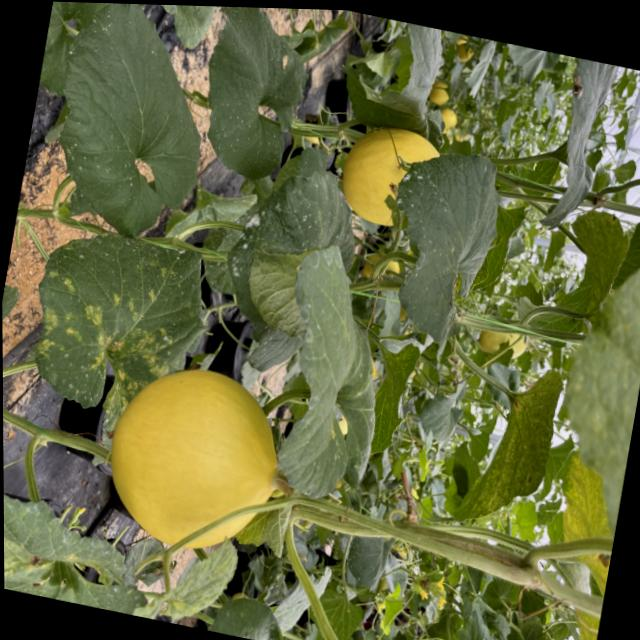CMV: (254, 241, 402, 503)
downy mildew: (16, 216, 226, 453), (442, 347, 566, 537), (3, 470, 163, 617), (248, 152, 355, 335), (34, 1, 107, 106), (361, 336, 422, 460)
healthy: (44, 1, 229, 231), (373, 141, 509, 348), (187, 6, 315, 195), (534, 198, 632, 352), (339, 12, 448, 139), (547, 55, 621, 197), (207, 588, 285, 640), (492, 41, 562, 91)
